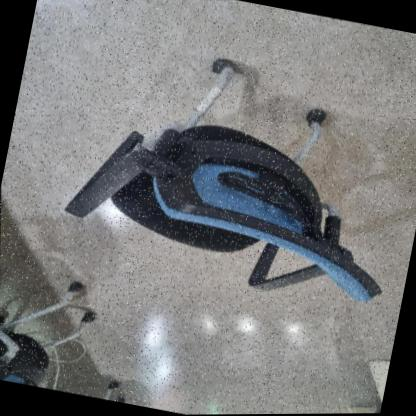Chair: (0, 0, 416, 394)
